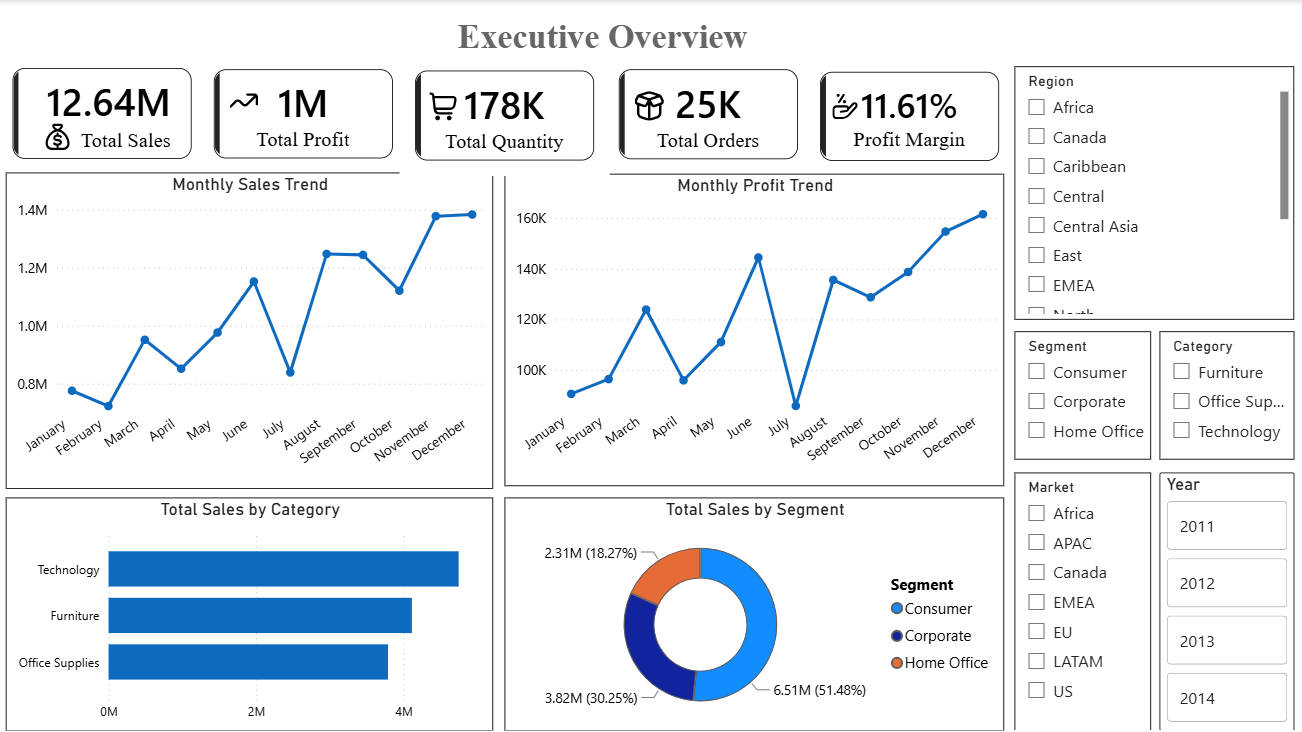

Layout of this report page (visuals, bound fields, positions):
{"tool":"powerbi","page":{"name":"Executive Overview","canvas":[1280,720],"ordinal":0},"visuals":[{"type":"shape","box":[349.9,6.9,485.8,57.6],"z":0},{"type":"cardVisual","fields":{"Data":["\"measures\".Total_profit"]},"box":[197.5,52.6,205,117.2],"z":0,"group":"g1"},{"type":"cardVisual","fields":{"Data":["\"measures\".Total_Orders"]},"box":[593.1,52.6,205.4,118.6],"z":0,"group":"g4"},{"type":"cardVisual","fields":{"Data":["\"measures\".Profit_Margin"]},"box":[789.9,55,205,118],"z":0,"group":"g2"},{"type":"cardVisual","fields":{"Data":["\"measures\".Total_Sales"]},"box":[0,51.8,205,119],"z":1000,"group":"g3"},{"type":"group","id":"g1","title":"Group 1","box":[197.5,52.6,205.4,117.4],"z":1000},{"type":"image","box":[816.1,91.3,28.4,24.5],"z":1000,"group":"g2"},{"type":"group","id":"g2","title":"Group 3","box":[789.9,55,205.4,117.4],"z":2000},{"type":"group","id":"g3","title":"Group 4","box":[0,51.8,205.4,118.6],"z":3000},{"type":"cardVisual","fields":{"Data":["\"measures\".Total_Quantity"]},"box":[393.8,53.8,205.4,118.6],"z":3000,"group":"g5"},{"type":"group","id":"g4","title":"Group 5","box":[593.1,52.6,206.7,118.6],"z":4000},{"type":"image","box":[228.2,83.9,28.1,27.7],"z":4005,"group":"g1"},{"type":"image","box":[46.6,121.5,25.7,25.7],"z":4006,"group":"g3"},{"type":"lineChart","title":"Monthly Sales Trend","fields":{"Category":["Orders.Order_Date.Variation.Date Hierarchy.Year","Orders.Order_Date.Variation.Date Hierarchy.Month"],"Y":["\"measures\".Total_Sales"]},"box":[8.6,168.8,476.9,309.4],"z":5000},{"type":"image","box":[623.2,89,29,29],"z":5001,"group":"g4"},{"type":"image","box":[423.1,90.5,26.9,26.9],"z":6000,"group":"g5"},{"type":"clusteredBarChart","title":"Total Sales by Category","fields":{"Category":["Orders.Category"],"Y":["\"measures\".Total_Sales"]},"box":[8.6,486.7,476.9,228.7],"z":6000},{"type":"donutChart","title":"Total Sales by Segment","fields":{"Category":["Orders.Segment"],"Y":["\"measures\".Total_Sales"]},"box":[496.5,486.7,489.1,228.7],"z":7000},{"type":"lineChart","title":"Monthly Profit Trend","fields":{"Category":["Orders.Order_Date.Variation.Date Hierarchy.Year","Orders.Order_Date.Variation.Date Hierarchy.Month"],"Y":["\"measures\".Total_profit"]},"box":[496.5,170,489.1,305.7],"z":8000},{"type":"slicer","fields":{"Values":["Orders.Market"]},"box":[995.4,462.2,133.3,253.1],"z":9000},{"type":"slicer","fields":{"Values":["Orders.Region"]},"box":[995.4,64.8,273.9,248.2],"z":10000},{"type":"advancedSlicerVisual","fields":{"Values":["Orders.Order_Date.Variation.Date Hierarchy.Year"]},"box":[1137.2,462.2,132.1,253.1],"z":11000},{"type":"slicer","fields":{"Values":["Orders.Category"]},"box":[1137.2,324.1,132.1,126],"z":12000},{"type":"slicer","fields":{"Values":["Orders.Segment"]},"box":[995.4,324.1,133.3,126],"z":13000},{"type":"group","id":"g5","title":"Group 2","box":[393.8,53.8,205.4,118.6],"z":14000}]}

Visuals, with their boxes in screenshot pixels (x1, y1, x2, y2), scaled from the page's 1280x720 canvas onto the 1302x732 screenshot:
shape: left=356, top=7, right=850, bottom=66
cardVisual - "measures".Total_profit: left=201, top=53, right=409, bottom=173
cardVisual - "measures".Total_Orders: left=603, top=53, right=812, bottom=174
cardVisual - "measures".Profit_Margin: left=803, top=56, right=1012, bottom=176
cardVisual - "measures".Total_Sales: left=0, top=53, right=209, bottom=174
"Group 1" group: left=201, top=53, right=410, bottom=173
image: left=830, top=93, right=859, bottom=118
"Group 3" group: left=803, top=56, right=1012, bottom=175
"Group 4" group: left=0, top=53, right=209, bottom=173
cardVisual - "measures".Total_Quantity: left=401, top=55, right=609, bottom=175
"Group 5" group: left=603, top=53, right=814, bottom=174
image: left=232, top=85, right=261, bottom=113
image: left=47, top=124, right=74, bottom=150
"Monthly Sales Trend" lineChart: left=9, top=172, right=494, bottom=486
image: left=634, top=90, right=663, bottom=120
image: left=430, top=92, right=458, bottom=119
"Total Sales by Category" clusteredBarChart: left=9, top=495, right=494, bottom=727
"Total Sales by Segment" donutChart: left=505, top=495, right=1003, bottom=727
"Monthly Profit Trend" lineChart: left=505, top=173, right=1003, bottom=484
slicer - Orders.Market: left=1013, top=470, right=1148, bottom=727
slicer - Orders.Region: left=1013, top=66, right=1291, bottom=318
advancedSlicerVisual - Orders.Order_Date.Variation.Date Hierarchy.Year: left=1157, top=470, right=1291, bottom=727
slicer - Orders.Category: left=1157, top=330, right=1291, bottom=458
slicer - Orders.Segment: left=1013, top=330, right=1148, bottom=458
"Group 2" group: left=401, top=55, right=609, bottom=175
